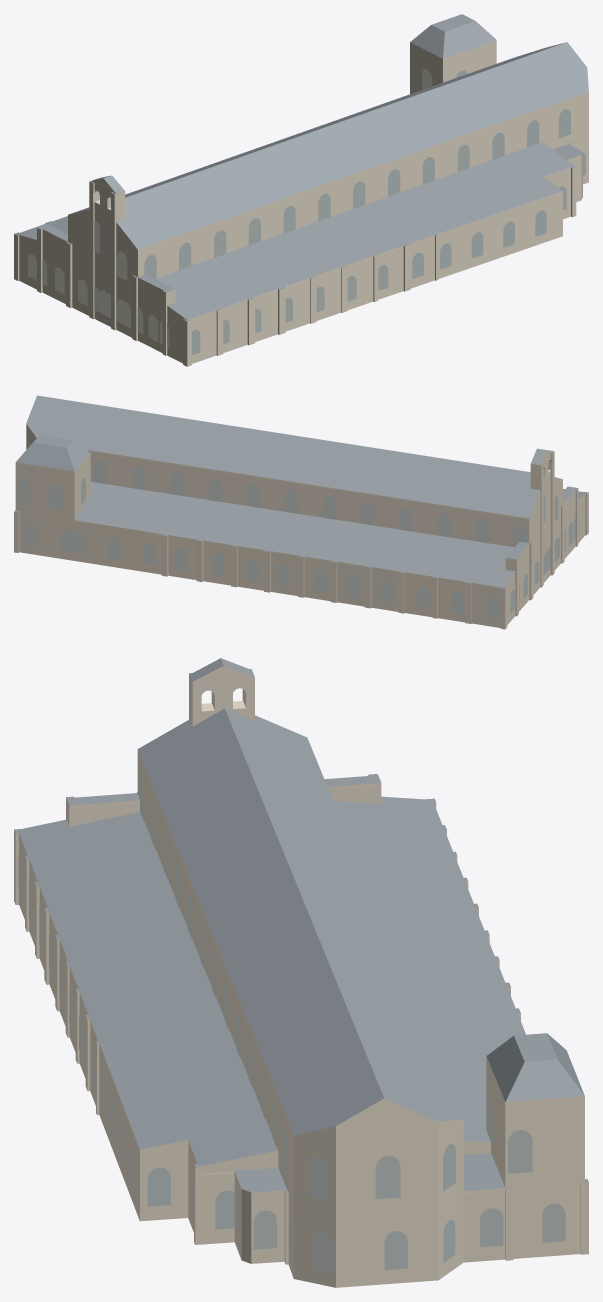
Rendered from detail.glb.
3 views of the same model, one above another, from view 1: azimuth 30°, elevation 25°; view 2: azimuth 150°, elevation 25°; view 3: azimuth 270°, elevation 25° (orthographic). The views are drawn at different scales.
Visible parts, largest first — view 1: roof, stone, window, trim; view 2: roof, stone, window, trim; view 3: roof, stone, window, trim.
Part boxes in pixels (left/top/right/bottom): roof: left=14, top=14, right=588, bottom=321; stone: left=14, top=40, right=588, bottom=366; window: left=28, top=69, right=585, bottom=354; trim: left=17, top=40, right=588, bottom=323; roof: left=14, top=395, right=588, bottom=588; stone: left=14, top=424, right=588, bottom=629; window: left=17, top=444, right=578, bottom=619; trim: left=16, top=433, right=584, bottom=588; roof: left=14, top=658, right=588, bottom=1193; stone: left=14, top=665, right=588, bottom=1287; window: left=18, top=774, right=565, bottom=1273; trim: left=15, top=752, right=587, bottom=1195.
Size of the model in its own units: 62.61 by 16 by 36.42.
